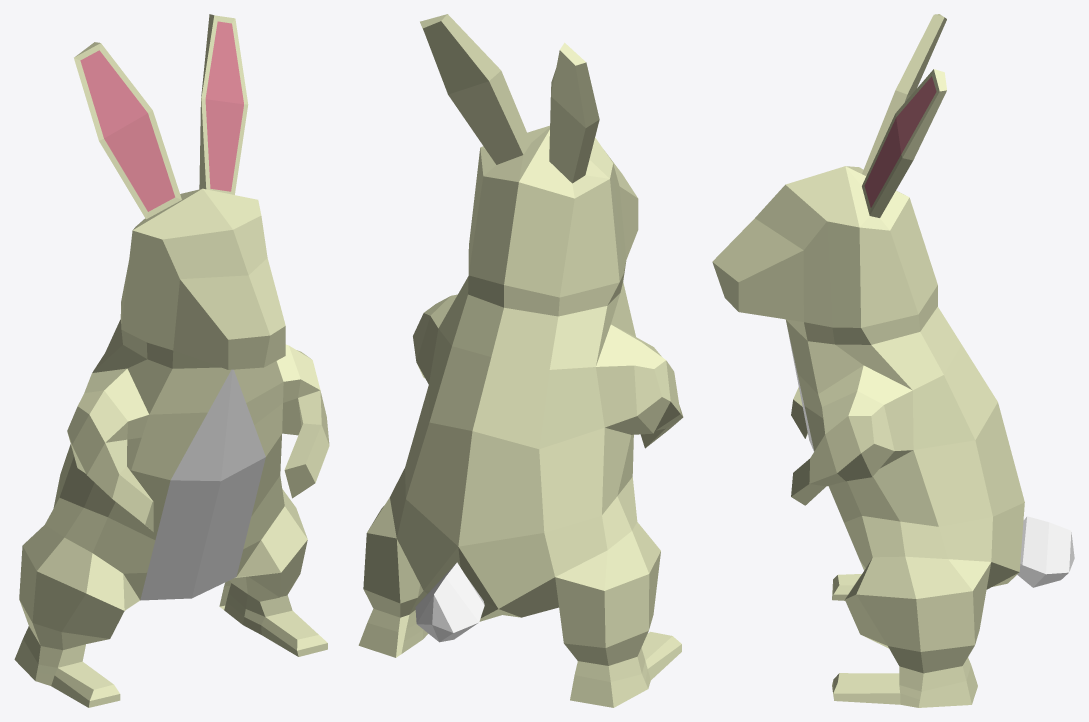
The model's file is Rabbit.fbx.
3 views of the same model, side by side, from view 1: azimuth 30°, elevation 25°; view 2: azimuth 150°, elevation 25°; view 3: azimuth 270°, elevation 25° (orthographic). The views are drawn at different scales.
Parts seen in each view (by area): view 1: Rabbit; view 2: Rabbit; view 3: Rabbit.
Part boxes in pixels (x1,y1,x2,y2): Rabbit: (14,14,329,707); Rabbit: (358,14,683,707); Rabbit: (712,14,1074,707).
Size of the model in its own units: 96.61 by 215 by 117.
